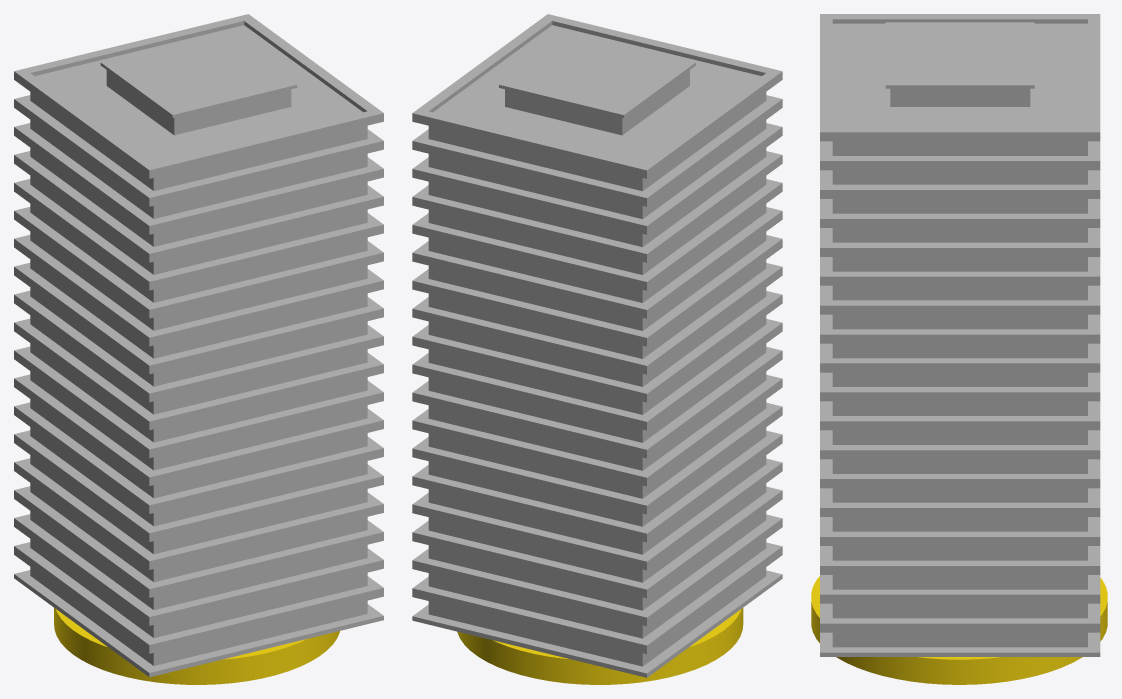
The picture shows the model from 3 angles, left to right: view 1: azimuth 30°, elevation 25°; view 2: azimuth 150°, elevation 25°; view 3: azimuth 270°, elevation 25°; orthographic projection. The views are drawn at different scales.
Visible parts, largest first — view 1: Part 1 (×2); view 2: Part 1 (×2); view 3: Part 1 (×2).
Part boxes in pixels (x1=…): Part 1 (×2): x1=14, y1=14, x2=383, y2=684; Part 1 (×2): x1=412, y1=14, x2=782, y2=684; Part 1 (×2): x1=811, y1=14, x2=1107, y2=684.
Size of the model in its own units: 0.032 by 0.0676 by 0.032.
